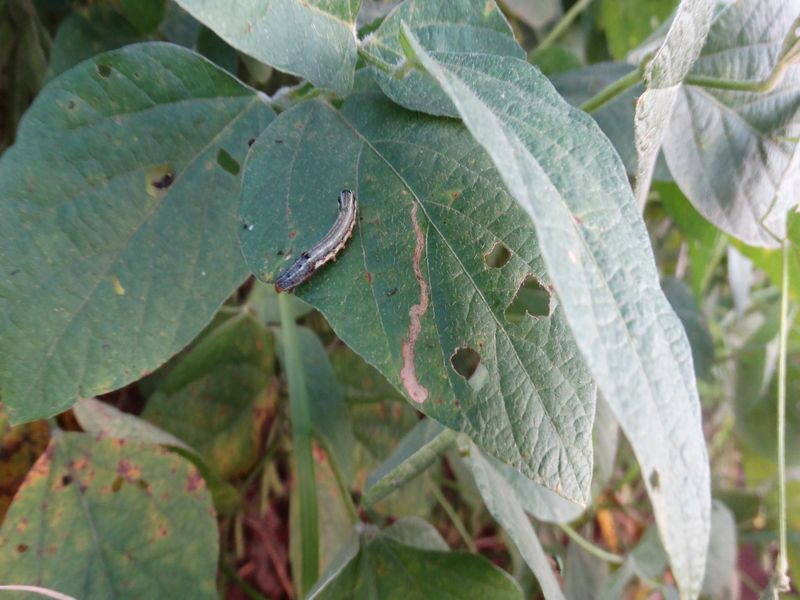Spodoptera_albula: (252, 175, 393, 312)
